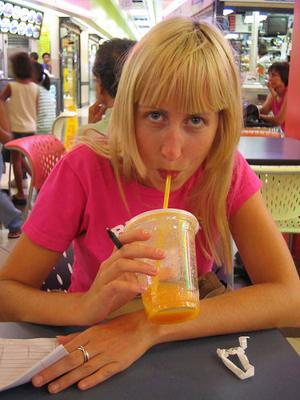person: (1, 16, 300, 396)
